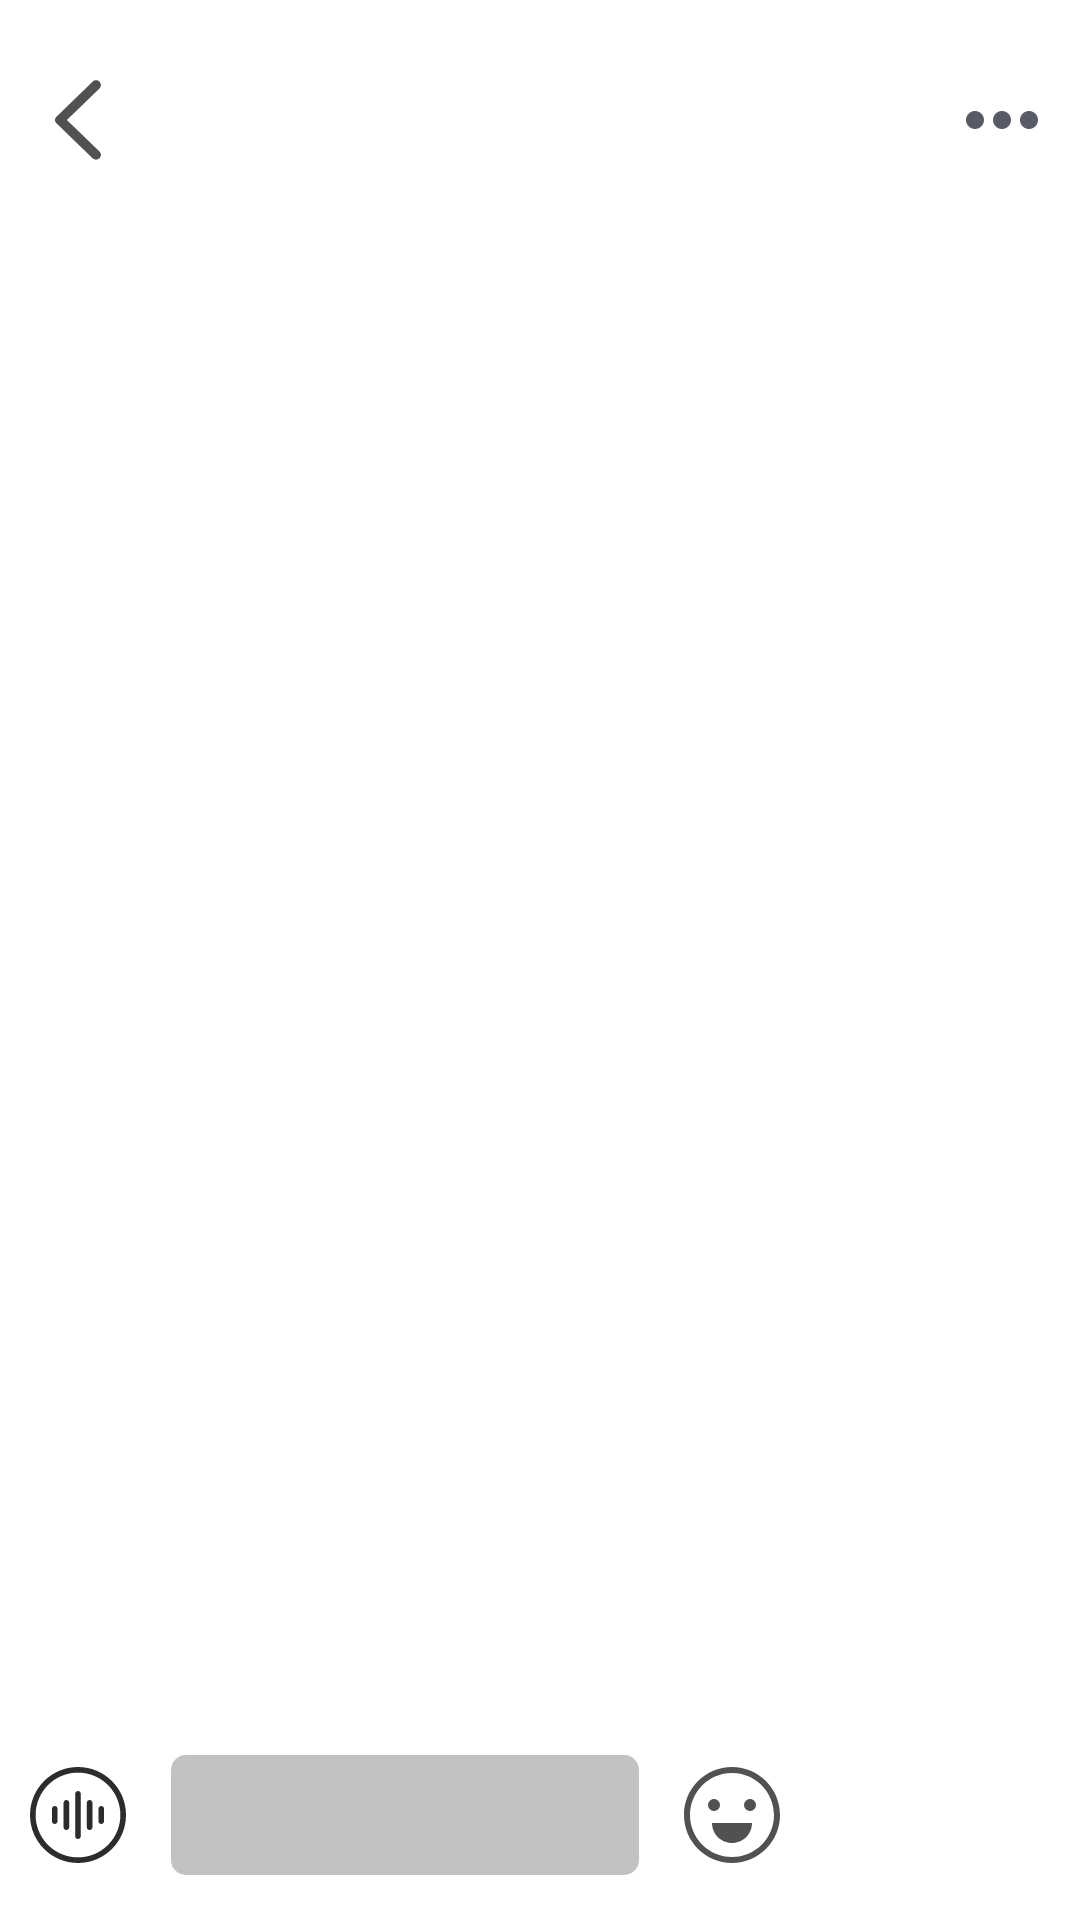

Point at icon controls on the screen. Image size 1080px×1920px, points as [x,y].
emoticons: [732,1815]
more: [1002,120]
return: [78,120]
voice: [78,1815]
